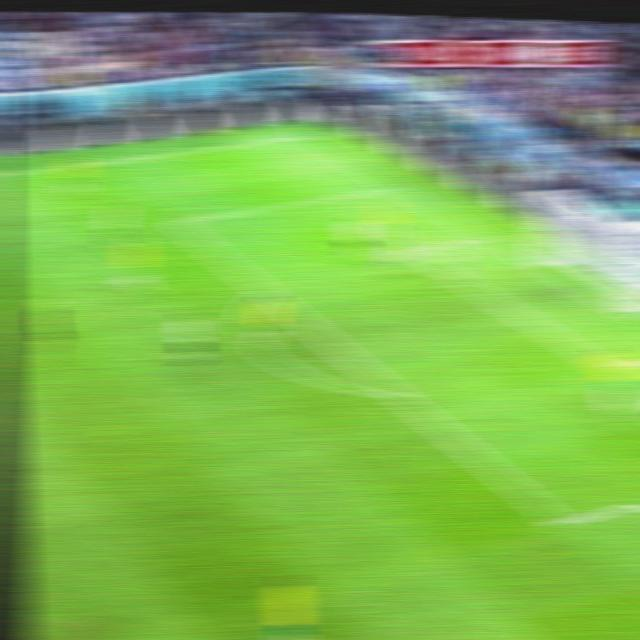bigarea_bottom_inner: (544, 504, 582, 538)
bigarea_top_inner: (161, 210, 192, 232)
bigarea_top_outter: (380, 177, 409, 194)
bottom_arc_area_intersection: (380, 380, 413, 406)
corner: (286, 127, 317, 143)
smallarea_top_inner: (399, 239, 431, 260)
smallarea_top_outter: (470, 224, 503, 246)
top_arc_area_intersection: (251, 279, 280, 298)
